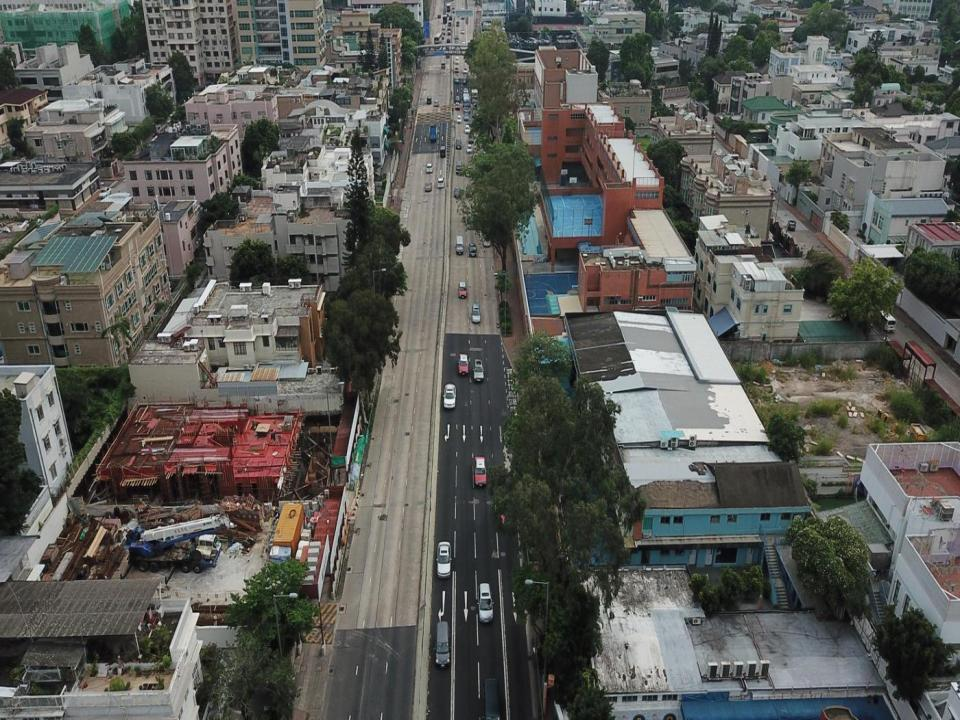bus: (868, 297, 896, 333), (463, 93, 470, 114), (434, 32, 442, 46)
car: (435, 541, 451, 578), (496, 485, 510, 525), (474, 455, 486, 487), (442, 384, 456, 408), (473, 359, 484, 382), (458, 352, 469, 374), (482, 228, 491, 248), (458, 281, 467, 299), (468, 243, 478, 259), (472, 302, 480, 322), (467, 214, 477, 229), (465, 165, 474, 178), (454, 186, 461, 200), (466, 184, 473, 198), (787, 220, 796, 230), (426, 162, 433, 174), (423, 181, 430, 192), (438, 176, 444, 188), (466, 144, 472, 154), (472, 102, 479, 110), (472, 109, 478, 118), (456, 114, 462, 122), (464, 112, 470, 120), (434, 99, 439, 107), (465, 124, 470, 132), (456, 100, 460, 110), (454, 34, 458, 43), (446, 51, 450, 59), (462, 67, 468, 72), (454, 77, 458, 84), (454, 66, 458, 72), (460, 29, 464, 35), (463, 77, 466, 84), (461, 40, 465, 45), (456, 20, 459, 25)
truck: (430, 125, 437, 142), (471, 87, 477, 103)
van: (481, 677, 500, 719), (433, 621, 450, 667), (477, 582, 494, 624), (456, 237, 464, 255), (454, 137, 462, 150), (455, 161, 462, 175), (440, 145, 445, 157), (426, 96, 430, 105), (442, 61, 446, 69), (455, 57, 459, 63), (437, 13, 441, 18)
